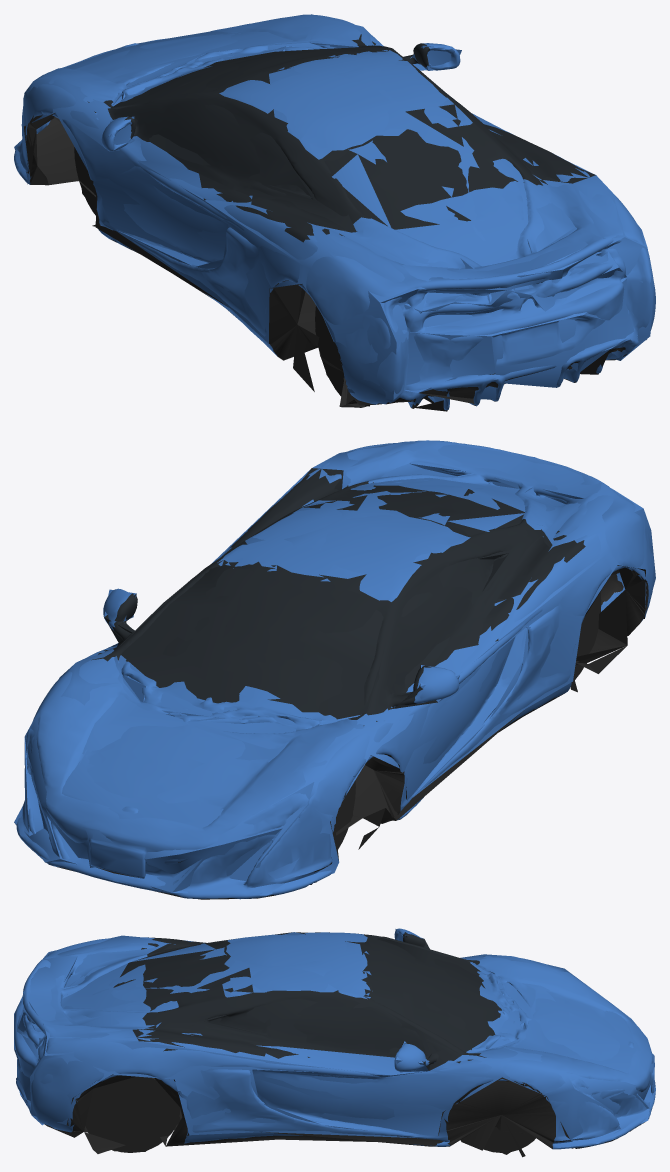
File: mclaren-650s-spider.glb
The picture shows the model from 3 angles, top to bottom: view 1: azimuth 30°, elevation 25°; view 2: azimuth 150°, elevation 25°; view 3: azimuth 270°, elevation 25°; orthographic projection. The views are drawn at different scales.
Parts seen in each view (by area): view 1: body, far; view 2: body, far; view 3: body, far.
Part boxes in pixels (<box>): body: <box>14,14,655,410</box>; far: <box>14,14,653,411</box>; body: <box>16,440,653,899</box>; far: <box>14,440,655,895</box>; body: <box>14,928,655,1156</box>; far: <box>14,929,653,1157</box>.
Bounding box in the file's own units: 2.19 × 1.23 × 4.52.
